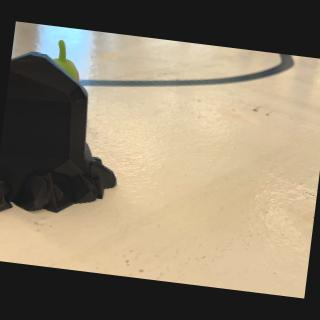teletubby: (53, 40, 79, 82)
